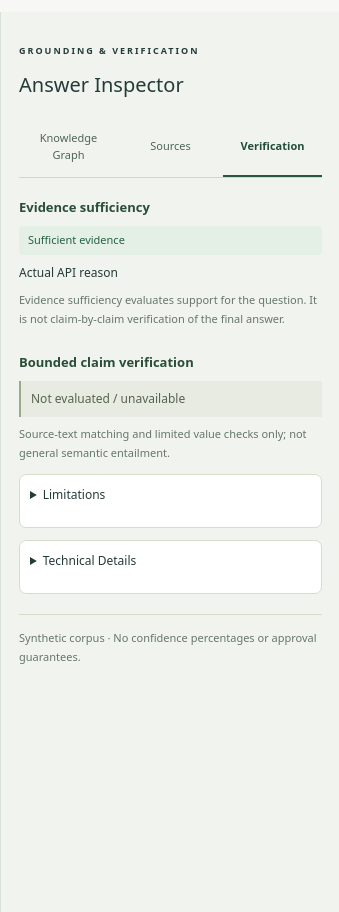
Scenario: displays only supplied trace events, including fallback
The image size is (339, 912).
Click the heading "Technical Details" at (89, 561), box [43,552,136,569]
(page scrolled)
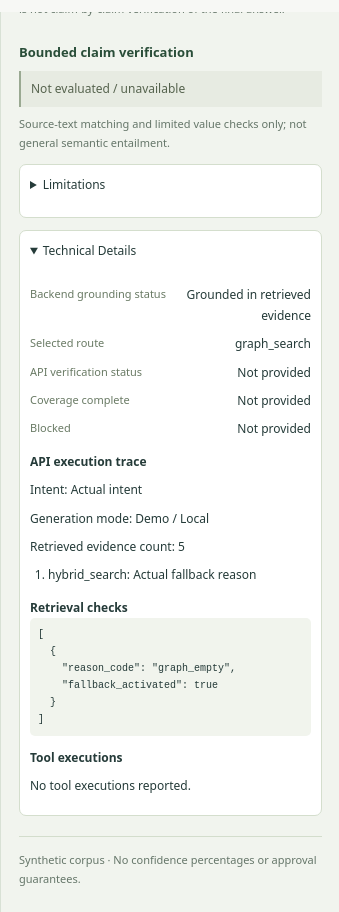
expect the text "Intent: Actual intent" is shown: met, box [30,481,142,498]
expect the list item "hybrid_search: Actual fallback reason" is shown: met, box [48,566,256,583]
expect the text "\"reason_code\": \"graph_empty\"" is shown: met, box [38,629,236,725]
